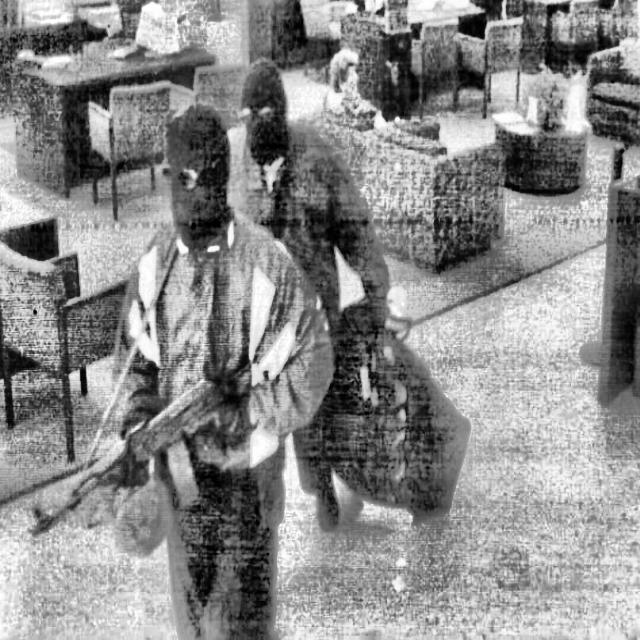robbery: (8, 47, 483, 639)
